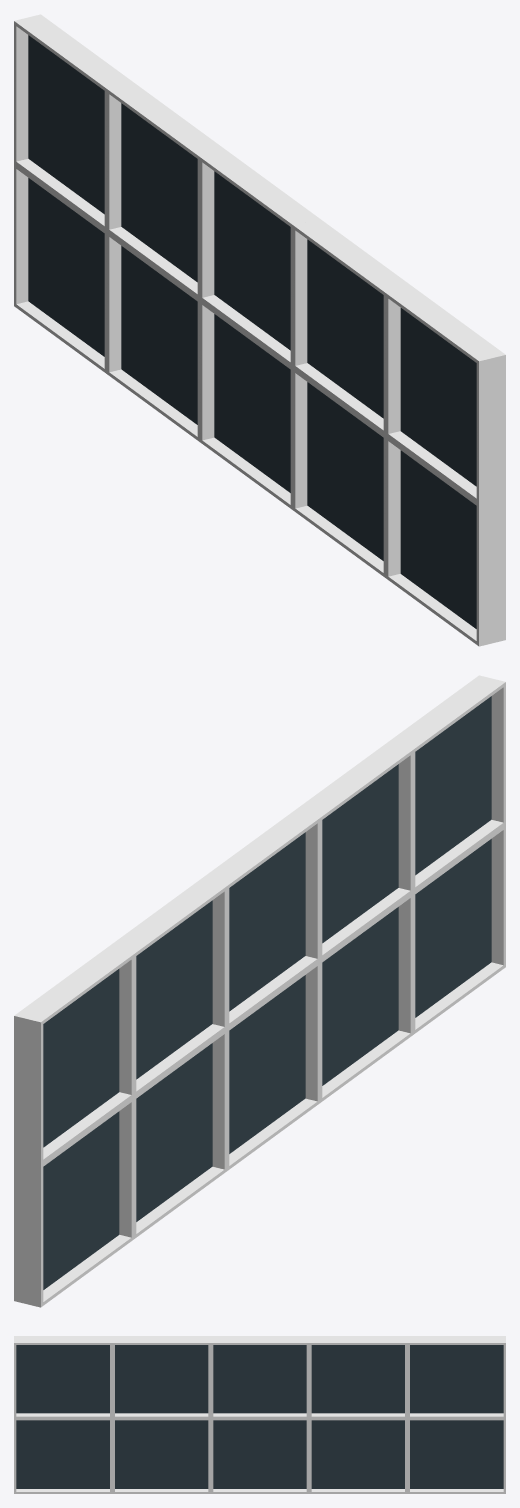
File: Janela5x2.fbx
The picture shows the model from 3 angles, top to bottom: view 1: azimuth 30°, elevation 25°; view 2: azimuth 150°, elevation 25°; view 3: azimuth 270°, elevation 25°; orthographic projection. The views are drawn at different scales.
Visible parts, largest first — view 1: Janela5X2; view 2: Janela5X2; view 3: Janela5X2.
Part boxes in pixels (x1,y1,x2,y2): Janela5X2: [14, 14, 505, 646]; Janela5X2: [14, 675, 505, 1307]; Janela5X2: [14, 1336, 505, 1493].
Size of the model in its own units: 20 by 203 by 600.
